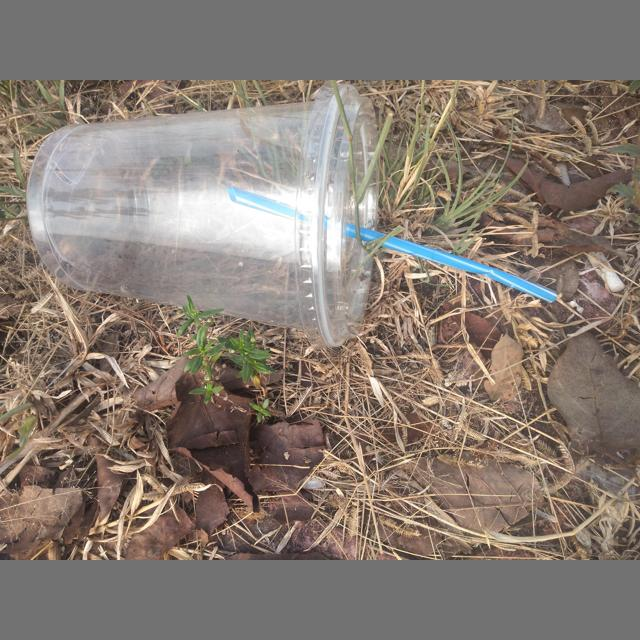litter: (26, 81, 379, 350), (227, 186, 557, 303), (295, 81, 379, 350), (587, 251, 625, 292)
